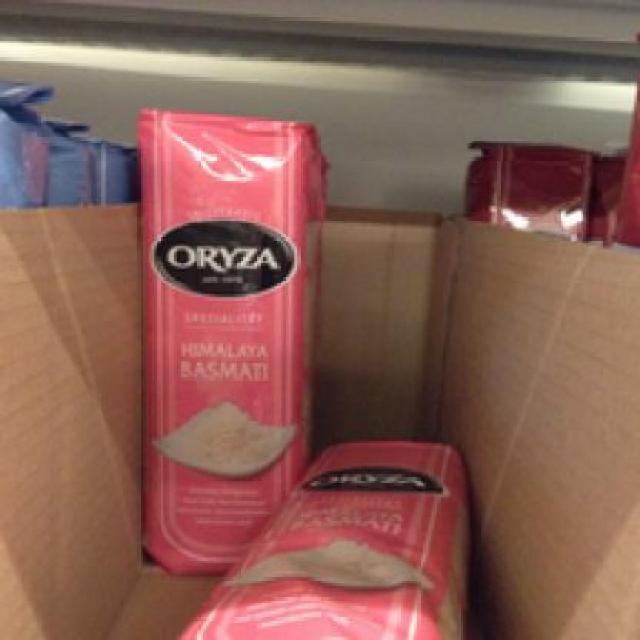Rice: (134, 103, 317, 572), (177, 434, 474, 637)
